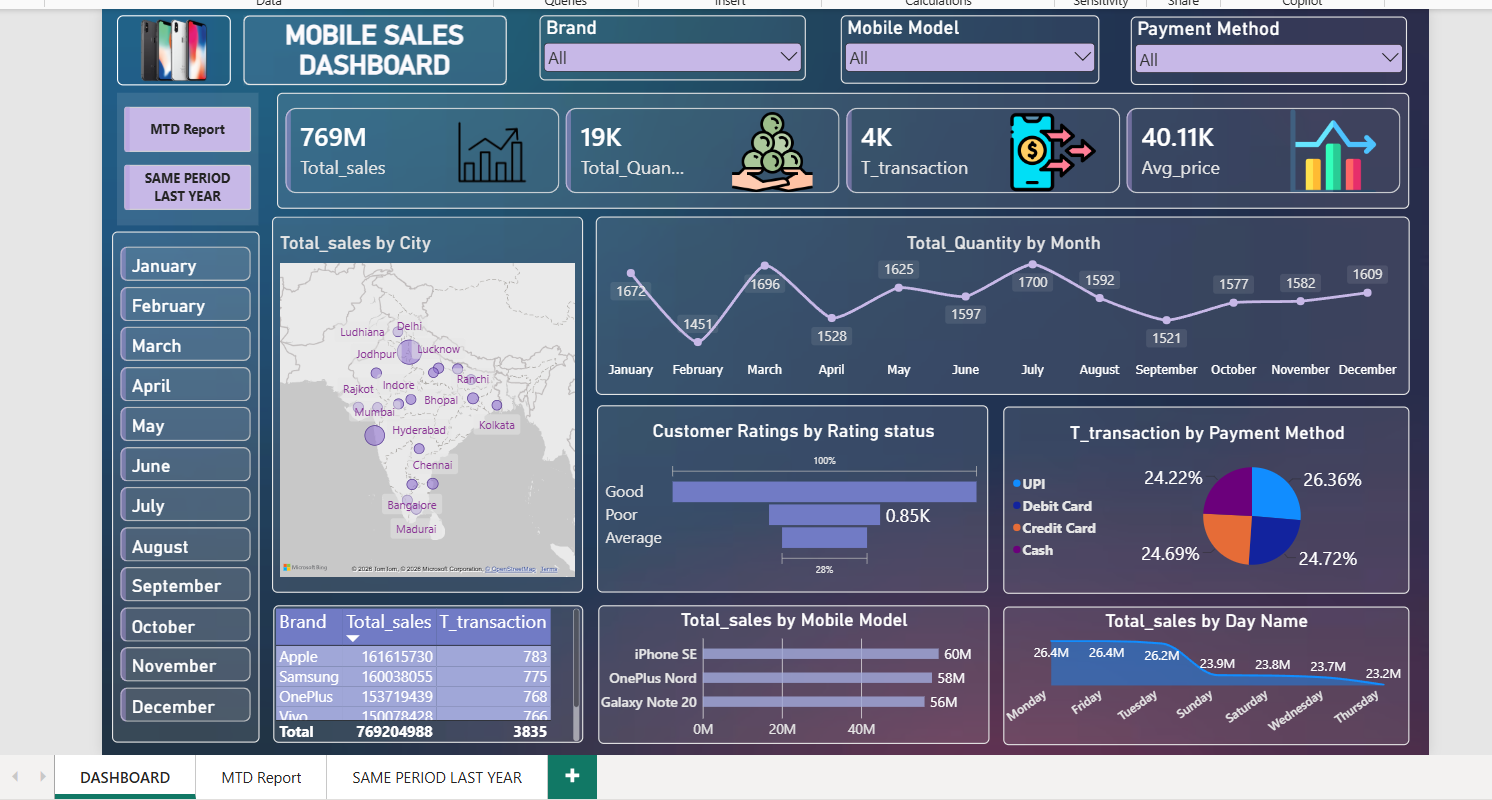

Layout of this report page (visuals, bound fields, positions):
{"tool":"powerbi","page":{"name":"DASHBOARD","canvas":[1920,1080],"ordinal":0},"visuals":[{"type":"advancedSlicerVisual","fields":{"Values":["Custom_date.Date.Variation.Date Hierarchy.Month"]},"box":[14.5,322.1,213.5,740.2],"z":0},{"type":"cardVisual","fields":{"Data":["sales_data.Total_sales","sales_data.Total_Quantity","sales_data.T_transaction","sales_data.Average_price"]},"box":[253.4,121.2,1639.6,168.3],"z":1000},{"type":"slicer","fields":{"Values":["sales_data.Brand"]},"box":[633.4,9,385.5,94.1],"z":2000},{"type":"slicer","fields":{"Values":["sales_data.Mobile Model"]},"box":[1069.5,9,374.6,99.5],"z":3000},{"type":"slicer","fields":{"Values":["sales_data.Payment Method"]},"box":[1489.4,10.9,399.9,99.5],"z":4000},{"type":"lineChart","fields":{"Category":["Custom_date.Date.Variation.Date Hierarchy.Month"],"Y":["sales_data.Total_Quantity"]},"box":[714.8,300.4,1178.1,258.8],"z":5000},{"type":"map","fields":{"Category":["sales_data.City"],"Size":["sales_data.Total_sales"]},"box":[246.1,300.4,450.6,544.7],"z":6000},{"type":"pieChart","fields":{"Category":["sales_data.Payment Method"],"Y":["sales_data.T_transaction"]},"box":[1304.8,575.5,588.1,271.4],"z":7000},{"type":"funnel","title":"Customer Ratings by Rating status","fields":{"Category":["sales_data.Rating status"],"Y":["CountNonNull(sales_data.Customer Ratings)"]},"box":[716.6,573.7,566.4,271.4],"z":8000},{"type":"clusteredBarChart","fields":{"Category":["sales_data.Mobile Model"],"Y":["sales_data.Total_sales"]},"box":[718.4,863.2,566.4,200.9],"z":9000},{"type":"areaChart","fields":{"Category":["Custom_date.Day Name"],"Y":["sales_data.Total_sales"]},"box":[1304.8,865,588.1,200.9],"z":10000},{"type":"tableEx","fields":{"Values":["sales_data.Brand","sales_data.Total_sales","sales_data.T_transaction"]},"box":[247.9,863.2,448.8,199.1],"z":11000},{"type":"textbox","box":[246.1,14.5,296.8,95.9],"z":12000},{"type":"shape","box":[204.5,9,381.8,101.3],"z":13000},{"type":"image","box":[21.7,9,164.7,101.3],"z":14000},{"type":"pageNavigator","box":[21.7,121.2,204.5,191.8],"z":14001}]}

Visuals, with their boxes on the page's 1920x1080 design canvas (x1, y1, x2, y2). These are canvas units, not pixel positions in the 1492x800 screenshot, which may show the page scaled, cropped or inside an application window:
advancedSlicerVisual - Custom_date.Date.Variation.Date Hierarchy.Month: [x1=14, y1=322, x2=228, y2=1062]
cardVisual - sales_data.Total_sales x sales_data.Total_Quantity: [x1=253, y1=121, x2=1893, y2=290]
slicer - sales_data.Brand: [x1=633, y1=9, x2=1019, y2=103]
slicer - sales_data.Mobile Model: [x1=1070, y1=9, x2=1444, y2=108]
slicer - sales_data.Payment Method: [x1=1489, y1=11, x2=1889, y2=110]
lineChart - Custom_date.Date.Variation.Date Hierarchy.Month x sales_data.Total_Quantity: [x1=715, y1=300, x2=1893, y2=559]
map - sales_data.City x sales_data.Total_sales: [x1=246, y1=300, x2=697, y2=845]
pieChart - sales_data.Payment Method x sales_data.T_transaction: [x1=1305, y1=576, x2=1893, y2=847]
"Customer Ratings by Rating status" funnel: [x1=717, y1=574, x2=1283, y2=845]
clusteredBarChart - sales_data.Mobile Model x sales_data.Total_sales: [x1=718, y1=863, x2=1285, y2=1064]
areaChart - Custom_date.Day Name x sales_data.Total_sales: [x1=1305, y1=865, x2=1893, y2=1066]
tableEx - sales_data.Brand x sales_data.Total_sales: [x1=248, y1=863, x2=697, y2=1062]
textbox: [x1=246, y1=14, x2=543, y2=110]
shape: [x1=204, y1=9, x2=586, y2=110]
image: [x1=22, y1=9, x2=186, y2=110]
pageNavigator: [x1=22, y1=121, x2=226, y2=313]
